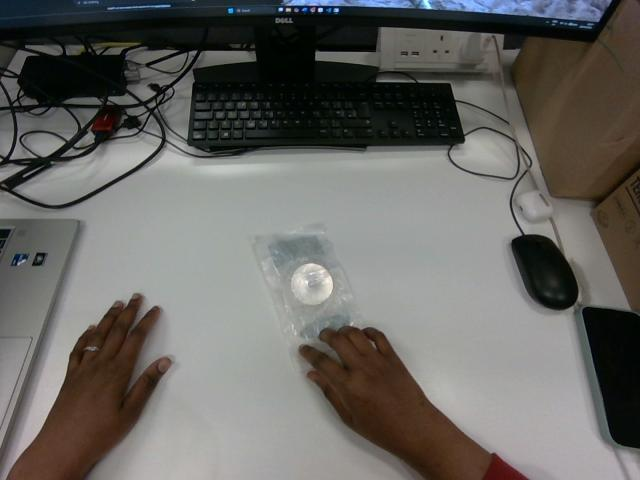gallipot: (254, 224, 360, 370)
